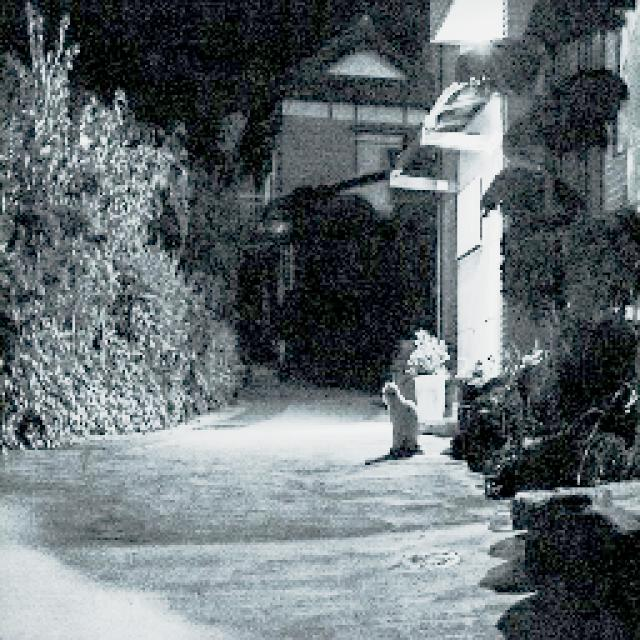cat: (374, 380, 429, 466)
